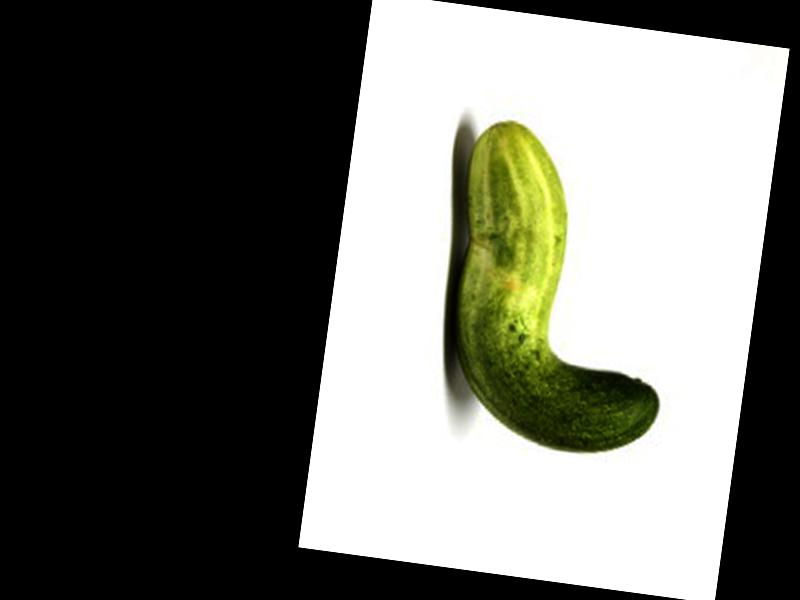Cucumber: (430, 115, 694, 463)
